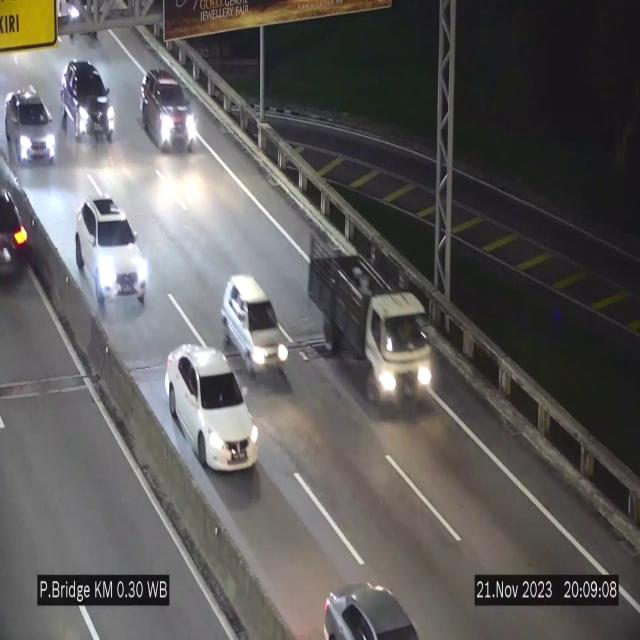Car: (165, 344, 260, 470), (311, 562, 422, 640), (76, 197, 146, 305), (221, 274, 289, 378), (141, 69, 197, 151), (60, 62, 116, 142), (0, 174, 39, 286), (5, 87, 51, 165)
Truck: (308, 231, 435, 409)
